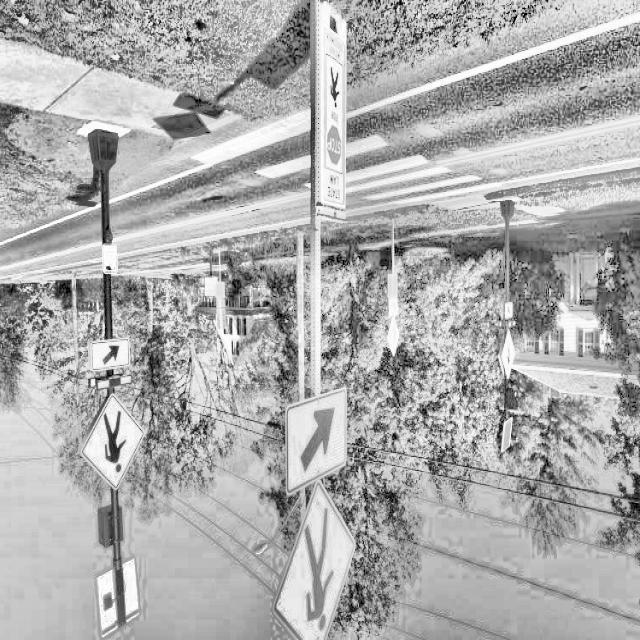crosswalk: (195, 98, 570, 232)
